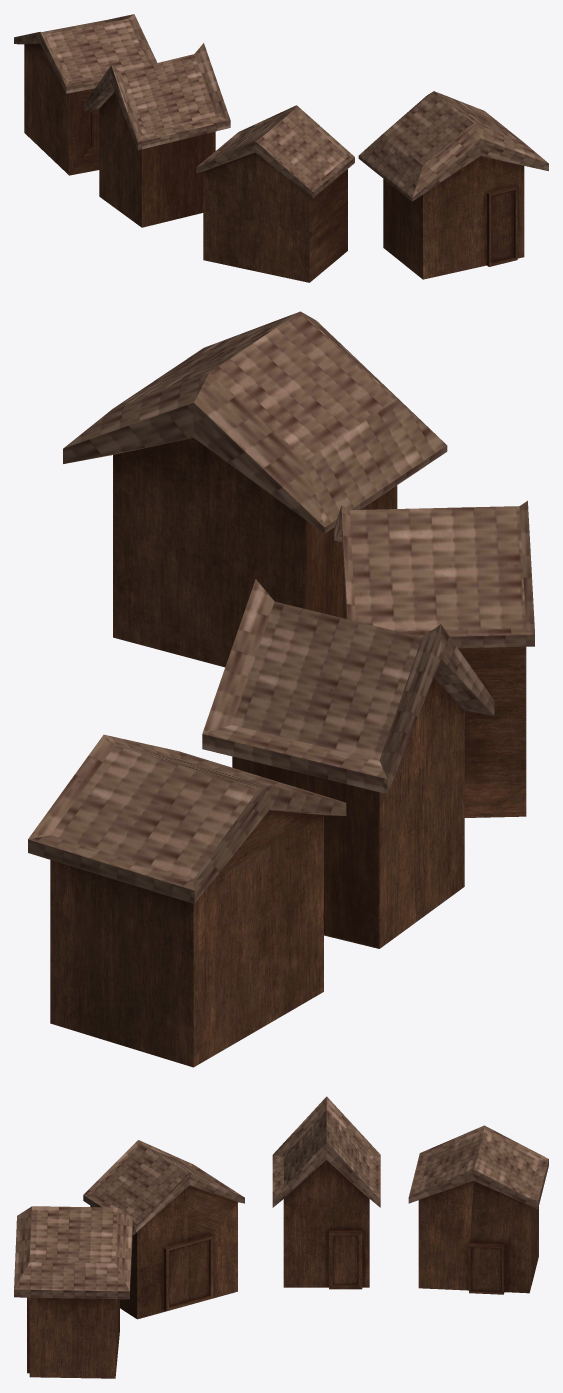
File: Arena_Wood_House.fbx
3 views of the same model, one above another, from view 1: azimuth 30°, elevation 25°; view 2: azimuth 150°, elevation 25°; view 3: azimuth 270°, elevation 25° (orthographic). The views are drawn at different scales.
Visible parts, largest first — view 1: Cube.020, Cube.018, Cube.019, Home 1; view 2: Cube.020, Home 1, Cube.019, Cube.018; view 3: Home 1, Cube.020, Cube.018, Cube.019.
Part boxes in pixels (<box>): Cube.020: <box>358,91,548,279</box>; Cube.018: <box>196,105,354,282</box>; Cube.019: <box>84,43,230,227</box>; Home 1: <box>14,14,157,175</box>; Cube.020: <box>63,311,447,667</box>; Home 1: <box>28,734,346,1067</box>; Cube.019: <box>202,579,494,948</box>; Cube.018: <box>334,500,534,817</box>; Home 1: <box>408,1125,548,1294</box>; Cube.020: <box>14,1206,135,1378</box>; Cube.018: <box>83,1140,244,1319</box>; Cube.019: <box>272,1096,380,1289</box>.
Bounding box in the file's own units: 2003 × 1012 × 3211.
